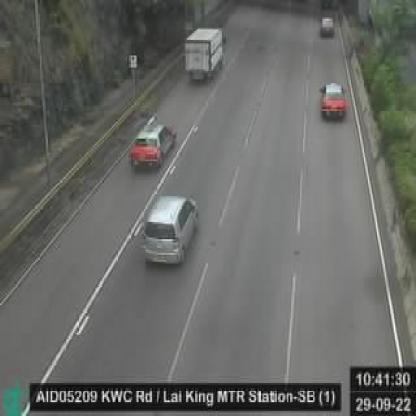Car: (138, 191, 200, 279), (125, 118, 182, 173), (312, 78, 354, 121), (313, 3, 341, 47)
Truck: (180, 22, 232, 86)
